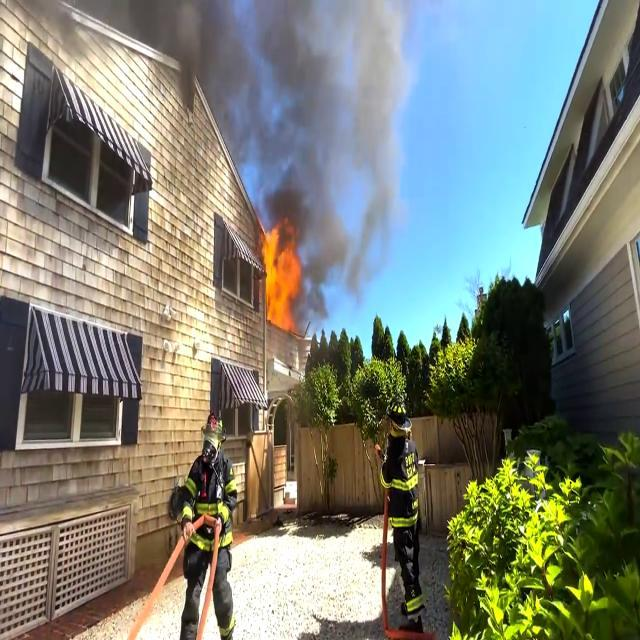Fire: (260, 226, 301, 338)
Smoke: (150, 0, 355, 202), (281, 0, 418, 293)
